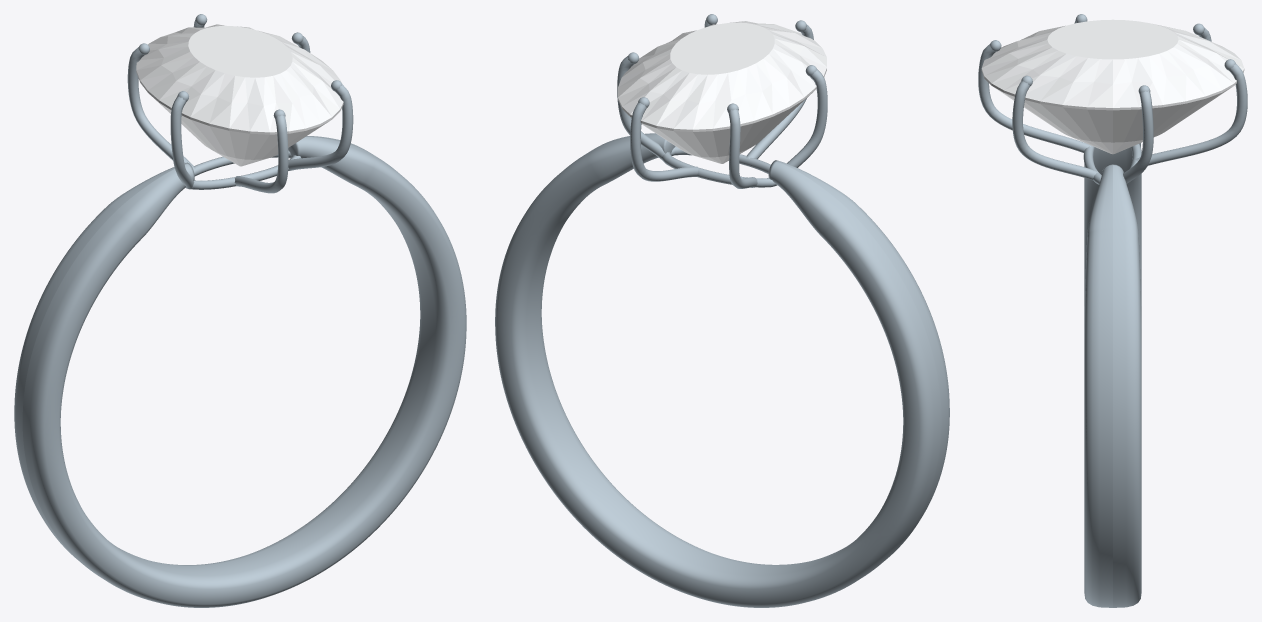
File: solitaire-visual-v1-oval.glb
3 views of the same model, side by side, from view 1: azimuth 30°, elevation 25°; view 2: azimuth 150°, elevation 25°; view 3: azimuth 270°, elevation 25° (orthographic).
Parts seen in each view (by area): view 1: Band, CenterStone, Prong-1, Prong-4, Prong-2, BasketBridge, Prong-3; view 2: Band, CenterStone, Prong-5, BasketBridge, Prong-3, Prong-4, Prong-2, Prong-6; view 3: Band, CenterStone, Prong-5, Prong-1, Prong-2, Prong-6, BasketBridge.
Part boxes in pixels (left/top/right/bottom): Band: left=14, top=136, right=466, bottom=607; CenterStone: left=136, top=24, right=343, bottom=166; Prong-1: left=288, top=84, right=353, bottom=170; Prong-4: left=127, top=47, right=195, bottom=169; Prong-2: left=234, top=115, right=288, bottom=193; BasketBridge: left=191, top=151, right=301, bottom=189; Prong-3: left=170, top=96, right=194, bottom=189; Band: left=495, top=133, right=949, bottom=607; CenterStone: left=618, top=21, right=826, bottom=163; Prong-5: left=630, top=102, right=698, bottom=181; BasketBridge: left=661, top=146, right=777, bottom=187; Prong-3: left=787, top=69, right=827, bottom=167; Prong-4: left=728, top=109, right=757, bottom=188; Prong-2: left=746, top=24, right=813, bottom=159; Prong-6: left=617, top=56, right=668, bottom=159; Band: left=1084, top=143, right=1141, bottom=607; CenterStone: left=981, top=19, right=1244, bottom=154; Prong-5: left=1134, top=63, right=1247, bottom=165; Prong-1: left=1012, top=80, right=1098, bottom=180; Prong-2: left=978, top=44, right=1090, bottom=152; Prong-6: left=1123, top=91, right=1153, bottom=183; BasketBridge: left=1083, top=144, right=1141, bottom=184.
Size of the model in its own units: 19.55 by 23.36 by 10.47.
